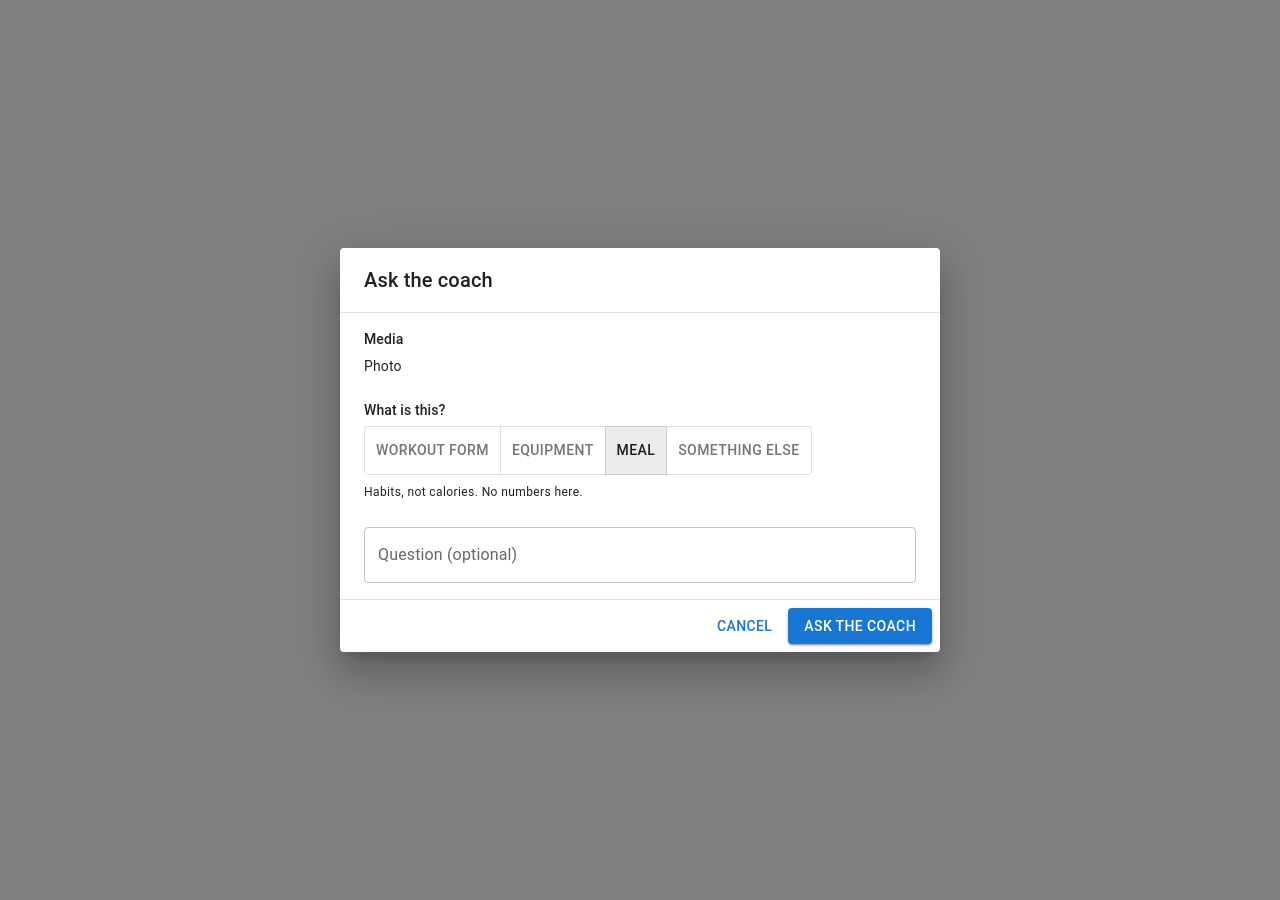
it: AskAboutMediaDialog › asks without a question when none is typed
The width and height of the screenshot is (1280, 900).
What coordinates should you click on to do the following:
click the button with test id "media-ask-button"
I would click on:
 (860, 626)
Its box is x1=788 y1=608 x2=932 y2=644.
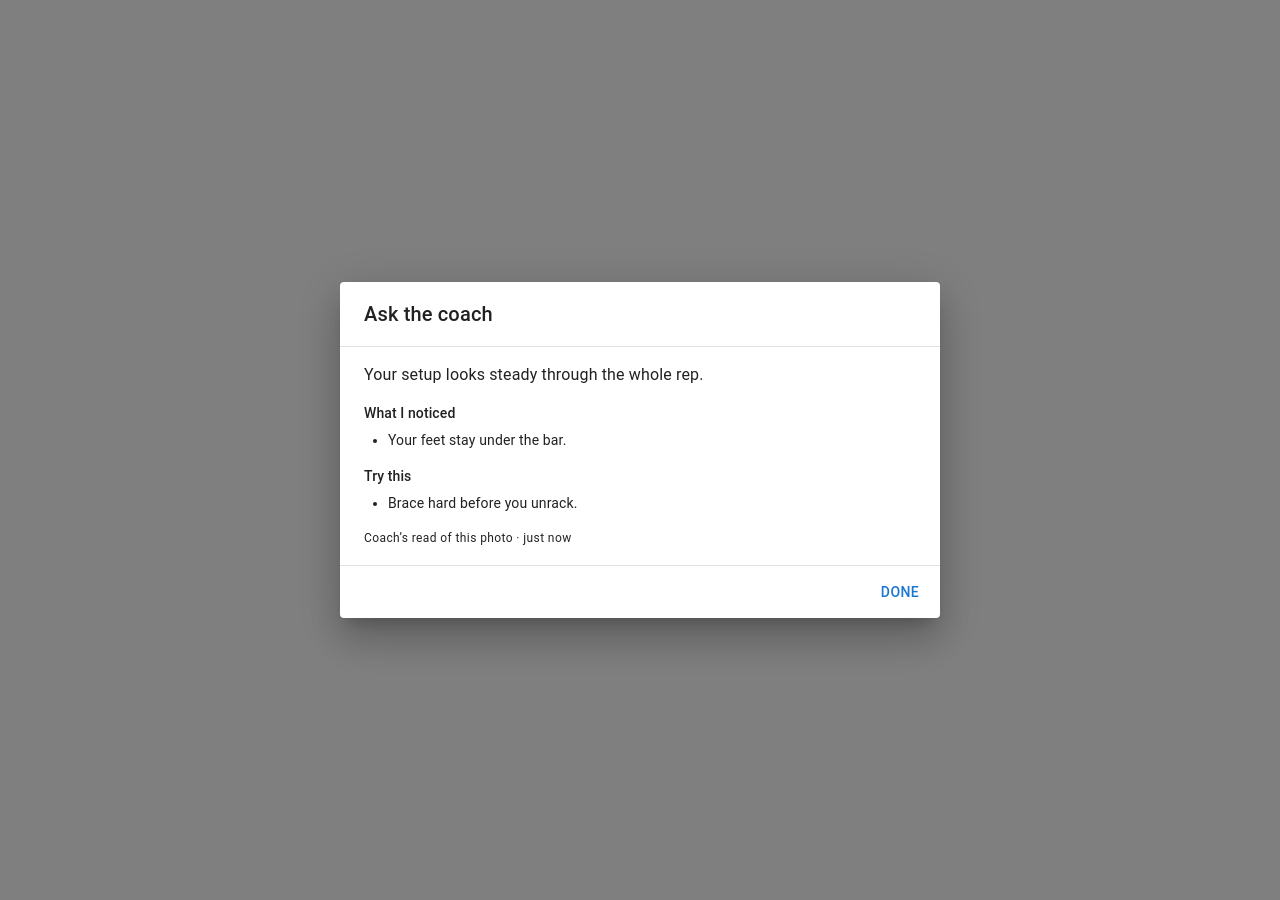
Expected: the text "Your setup looks steady through the whole rep." is shown, x1=364 y1=365 x2=704 y2=384
